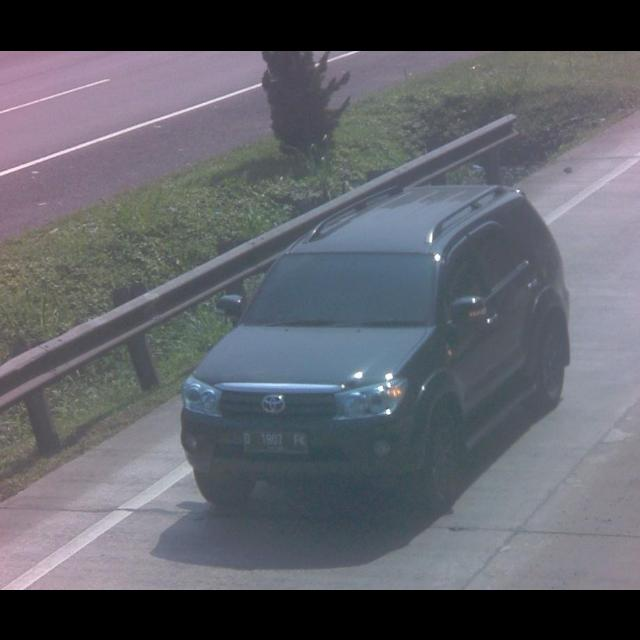plate: (240, 429, 312, 457)
